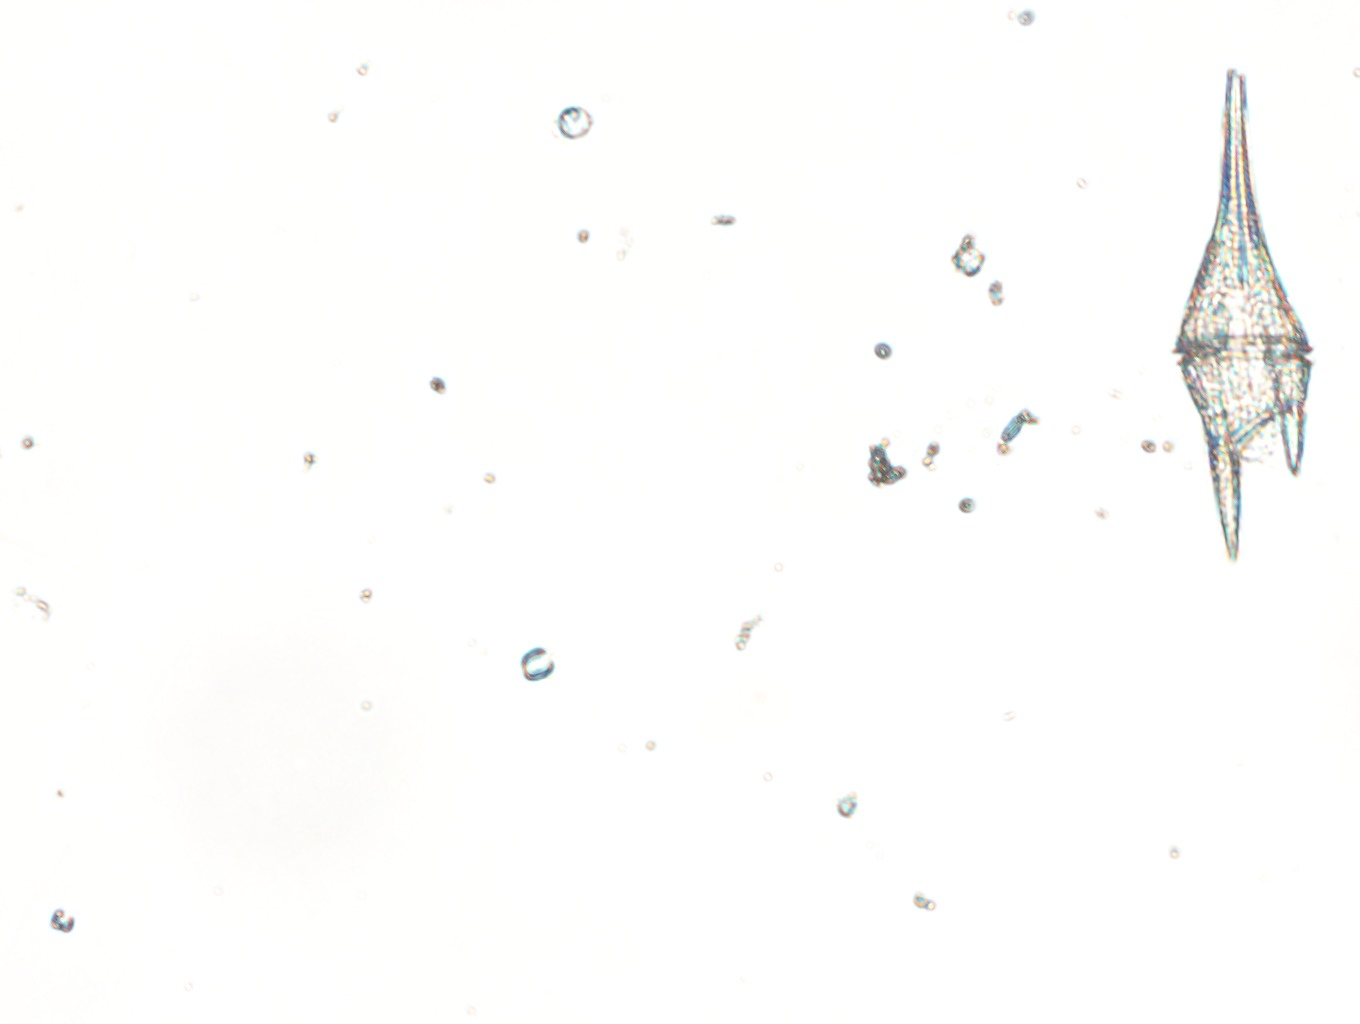ceratium furca: (1176, 66, 1314, 565)
